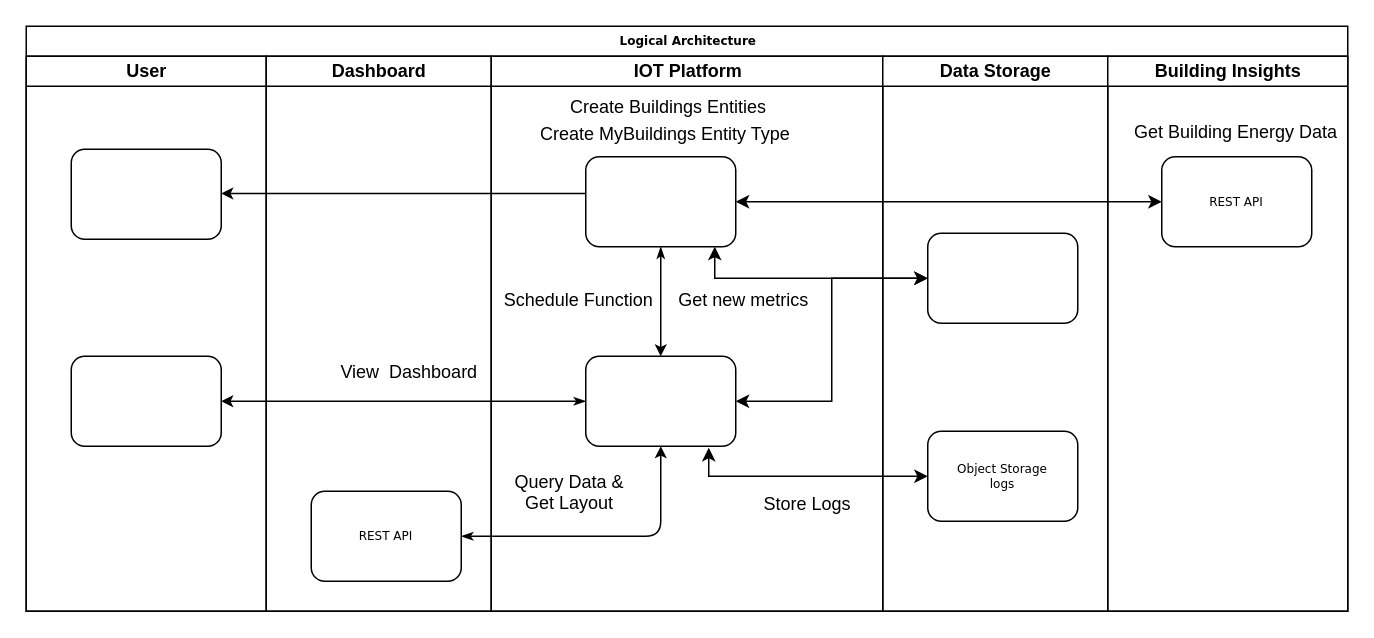
Some shapes in this 1374 by 638 pixel diagram are drawn without their labels. The centre of each missing label's shape, as x and y in pixels:
"Browser" goes at (145,400).
"DB2 MyBuildings Entity Table" goes at (1002,277).
"Explore Entity MyBuildings" goes at (660,400).
"Python Function.py BI_HTTP_Load" goes at (660,201).
"Python Local_test_function.py Pipeline Function" goes at (145,193).
